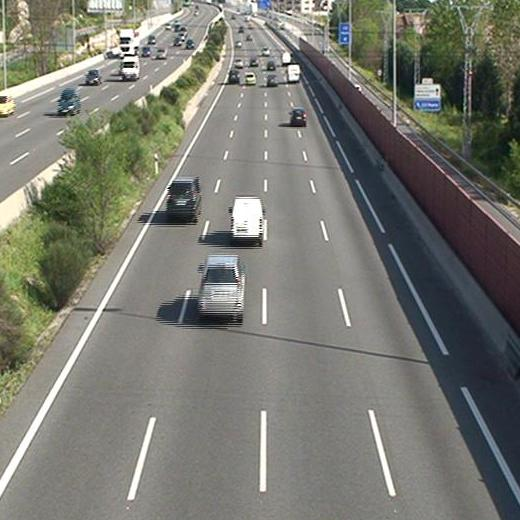car: (196, 256, 244, 316), (167, 179, 200, 217), (290, 108, 306, 125), (228, 70, 239, 83), (245, 71, 255, 85), (266, 74, 276, 86), (265, 60, 275, 71), (233, 57, 242, 69), (249, 57, 259, 67)
van: (233, 198, 262, 241), (288, 64, 300, 82), (282, 50, 290, 67)
